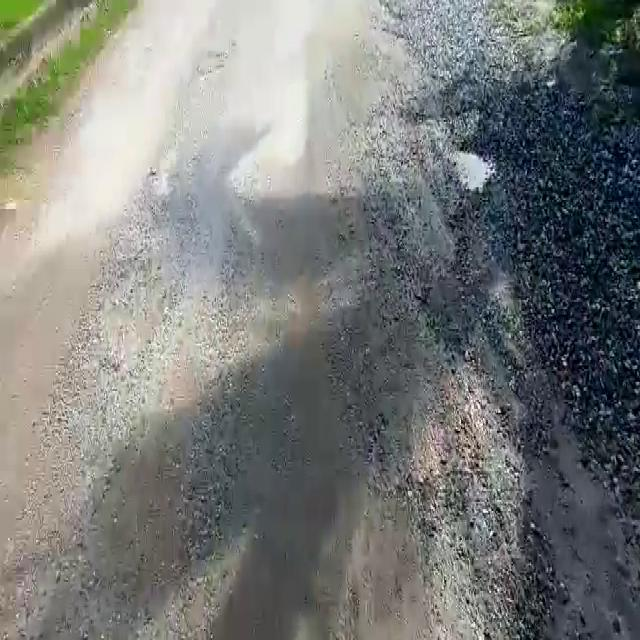Pothole: (453, 146, 494, 199)
